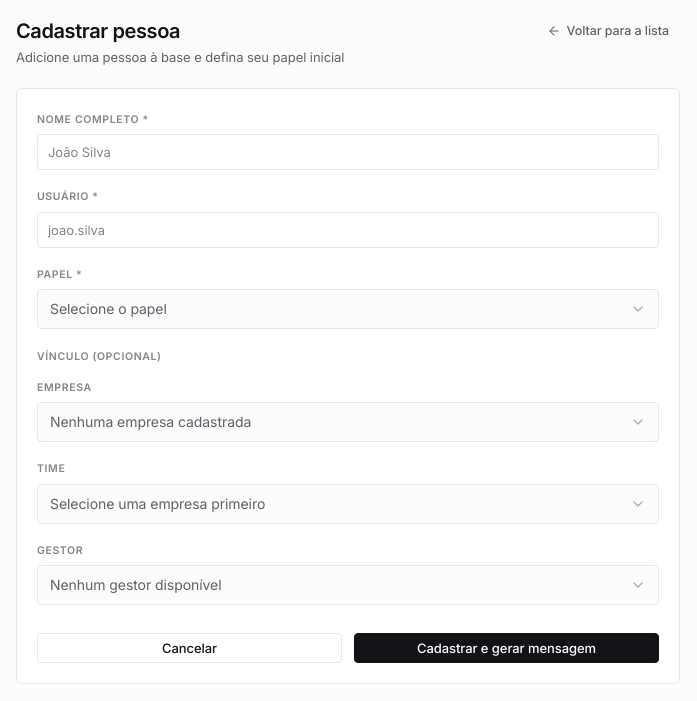
Test: CreateUserPage (AUTH-01/AUTH-02) [INV-3-16] › shows OnboardingMessageBlock after successful creation (AUTH-02)
Type "Maria Silva" into the field labelled "Nome completo *" at (348, 152), box [37,134,659,170]
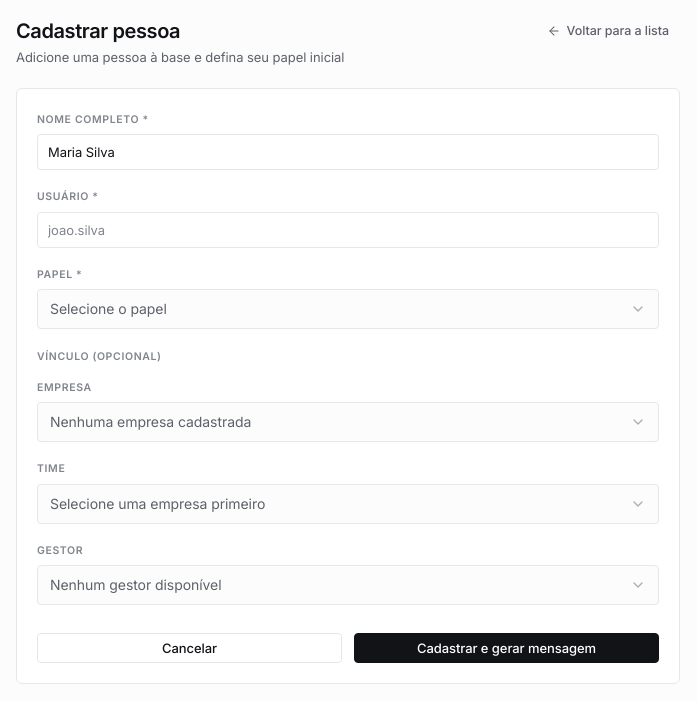
Type "maria.silva" into the field labelled "Usuário *" at (348, 230), box [37,212,659,248]
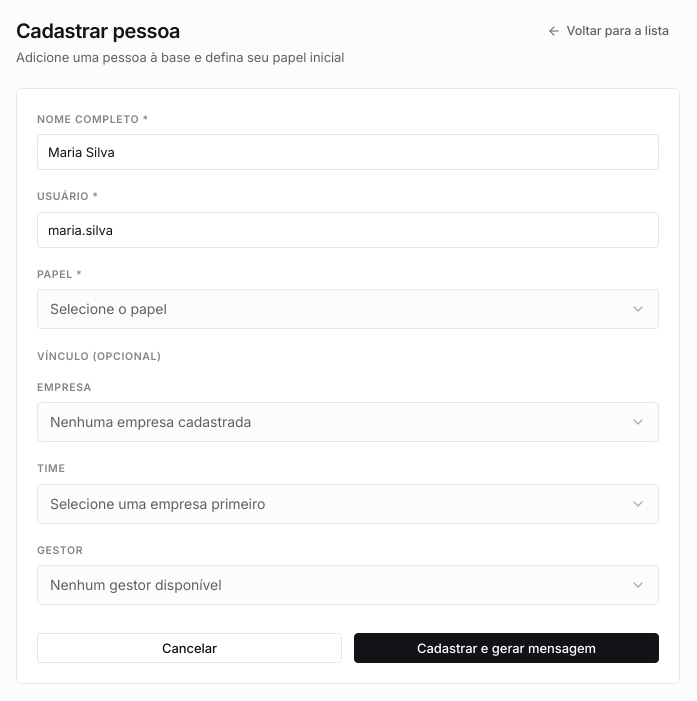
Click the button "Cadastrar e gerar mensagem" at (506, 648), box [354,633,659,663]
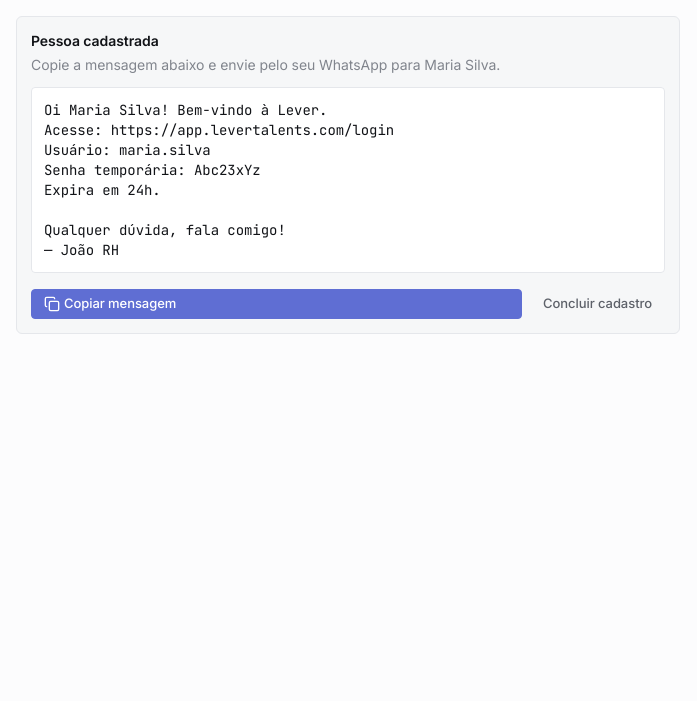
Now the text "Senha temporária: Abc23xYz" is shown, box [44,101,394,259]
